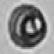correct: (8, 2, 48, 51)
